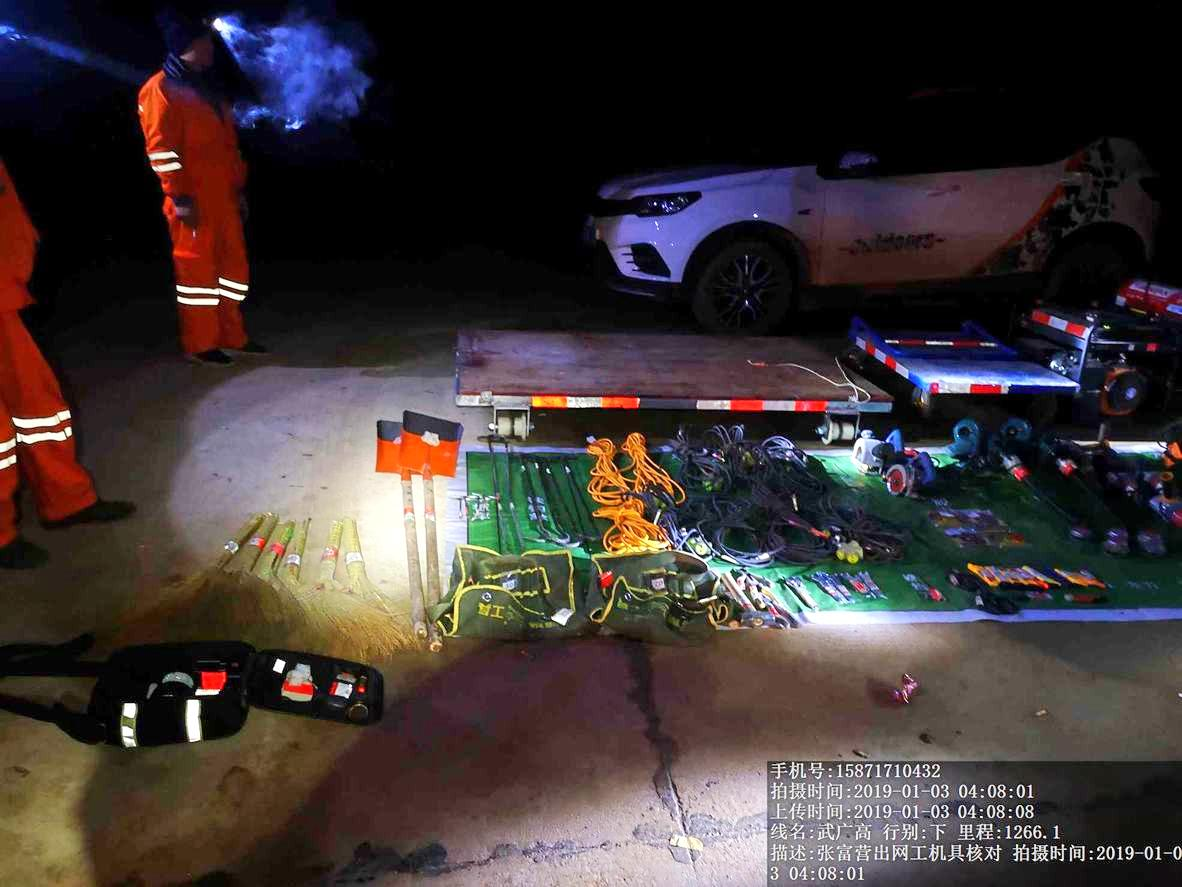DJ: (1034, 287, 1180, 385)
DX: (592, 503, 674, 554), (584, 432, 638, 506), (593, 506, 670, 551)
GFJ: (945, 410, 1055, 511)
GJB: (94, 640, 392, 756), (444, 545, 582, 638), (577, 551, 715, 642)
SB: (138, 505, 281, 633), (306, 519, 358, 622)
TC: (850, 303, 1085, 418)
TQ: (398, 402, 463, 614)
